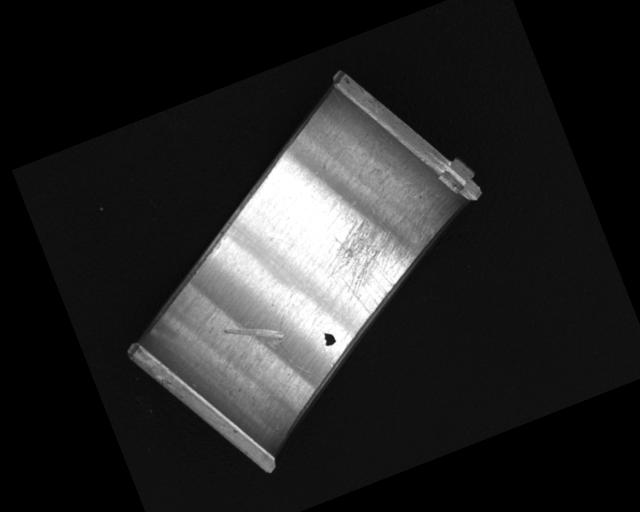blot: (321, 328, 337, 348)
nick: (222, 309, 288, 364), (270, 310, 314, 381)
scratch: (313, 198, 447, 326)
